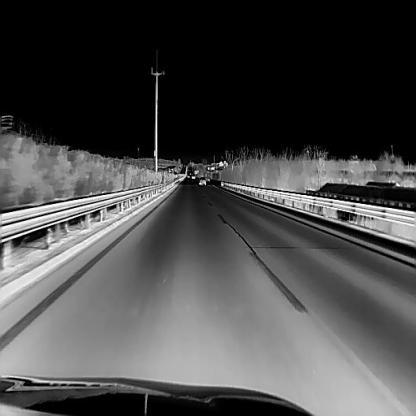car: (198, 176, 206, 185)
